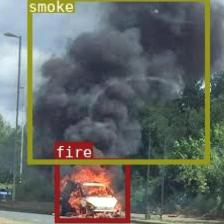fire: (54, 158, 129, 222)
smoke: (26, 0, 209, 163)
